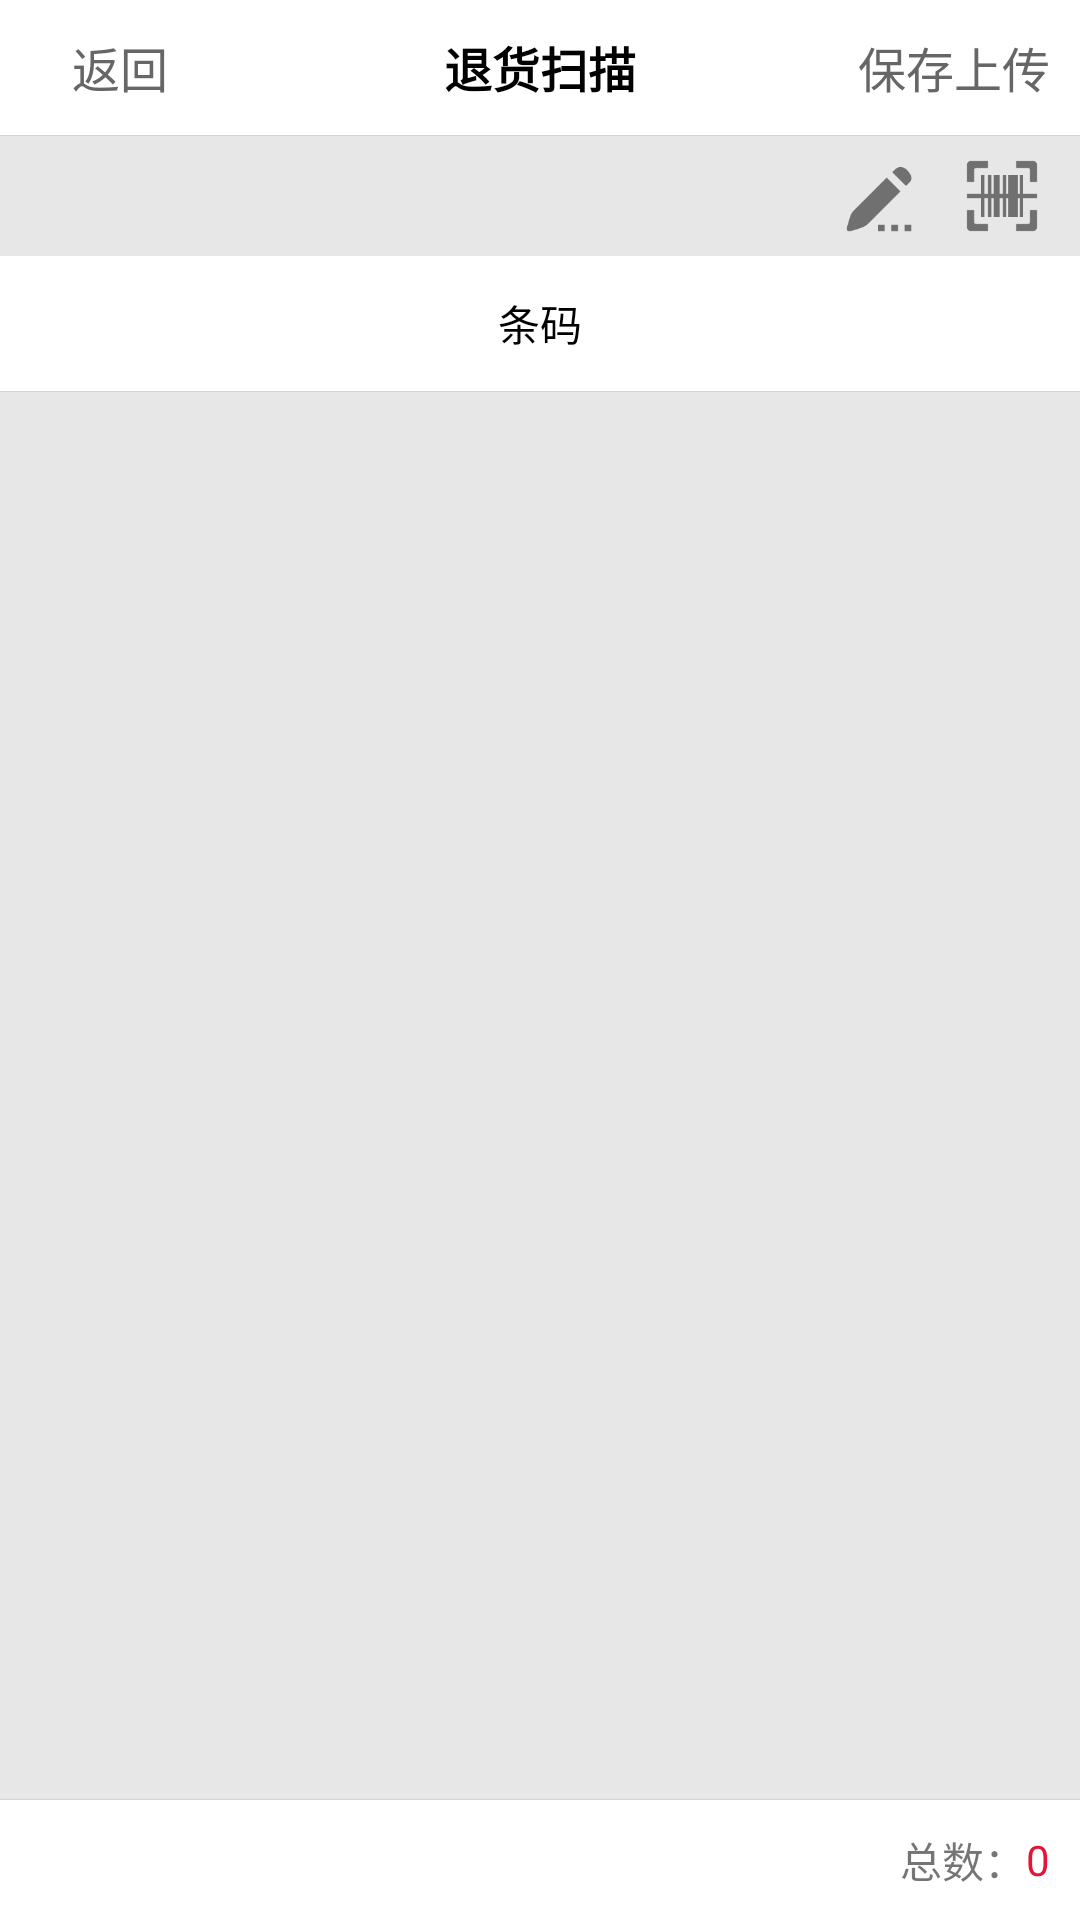

Icon bounding boxes for this 1080 x 1920 phone screenshot, format (x1=x1, y1=y1, x2=x2, y2=y2):
manually enter: (x1=846, y1=167, x2=912, y2=231)
scan code: (x1=967, y1=161, x2=1037, y2=231)
